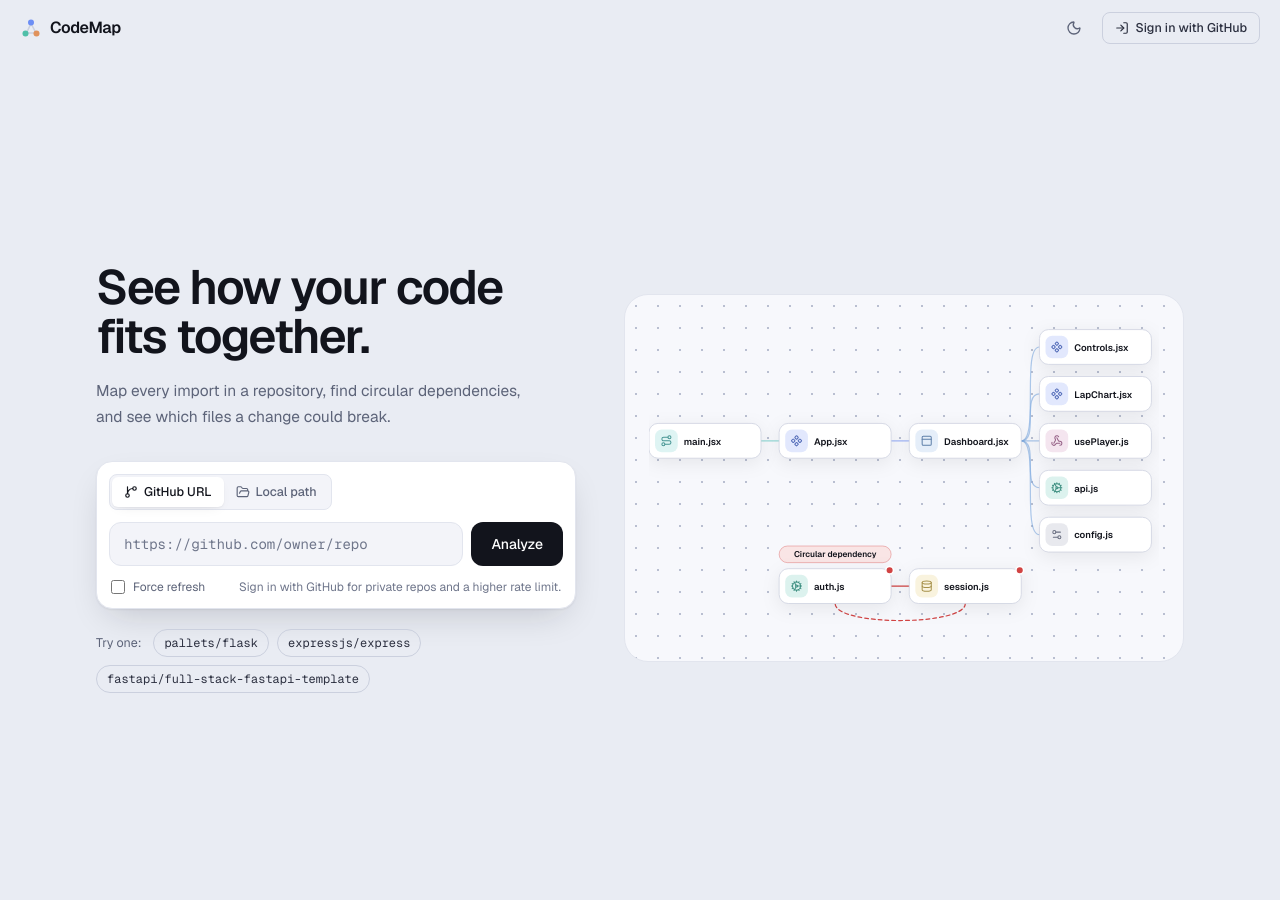
Test: HomePage › falls back to a backend-unreachable message when there is no response
The width and height of the screenshot is (1280, 900).
Step 1. Type "/repo" into the field named "Repository source" → [286, 544], box [109,522,463,566]
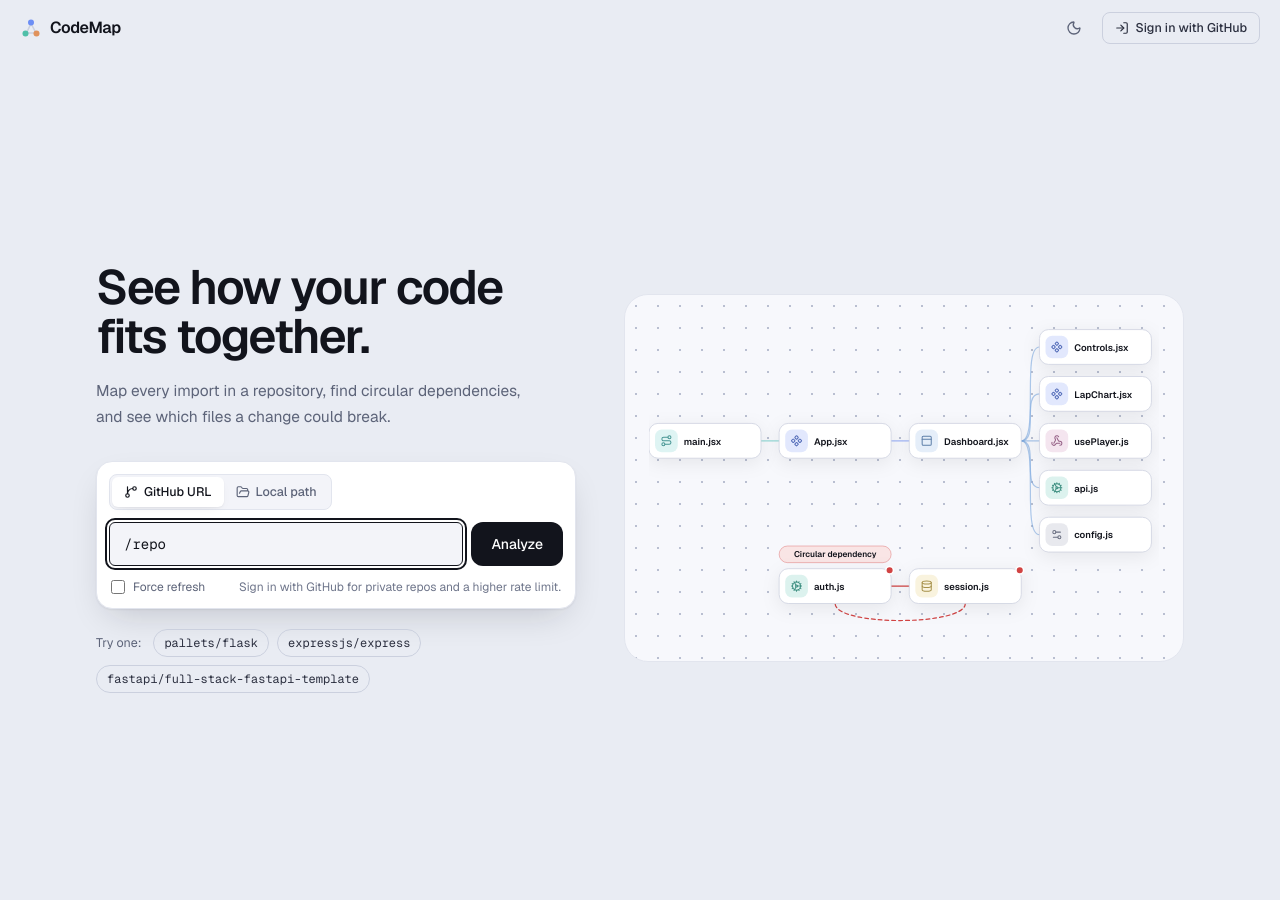
Step 2. Click the button "Analyze" → [517, 544], box [471,522,563,566]
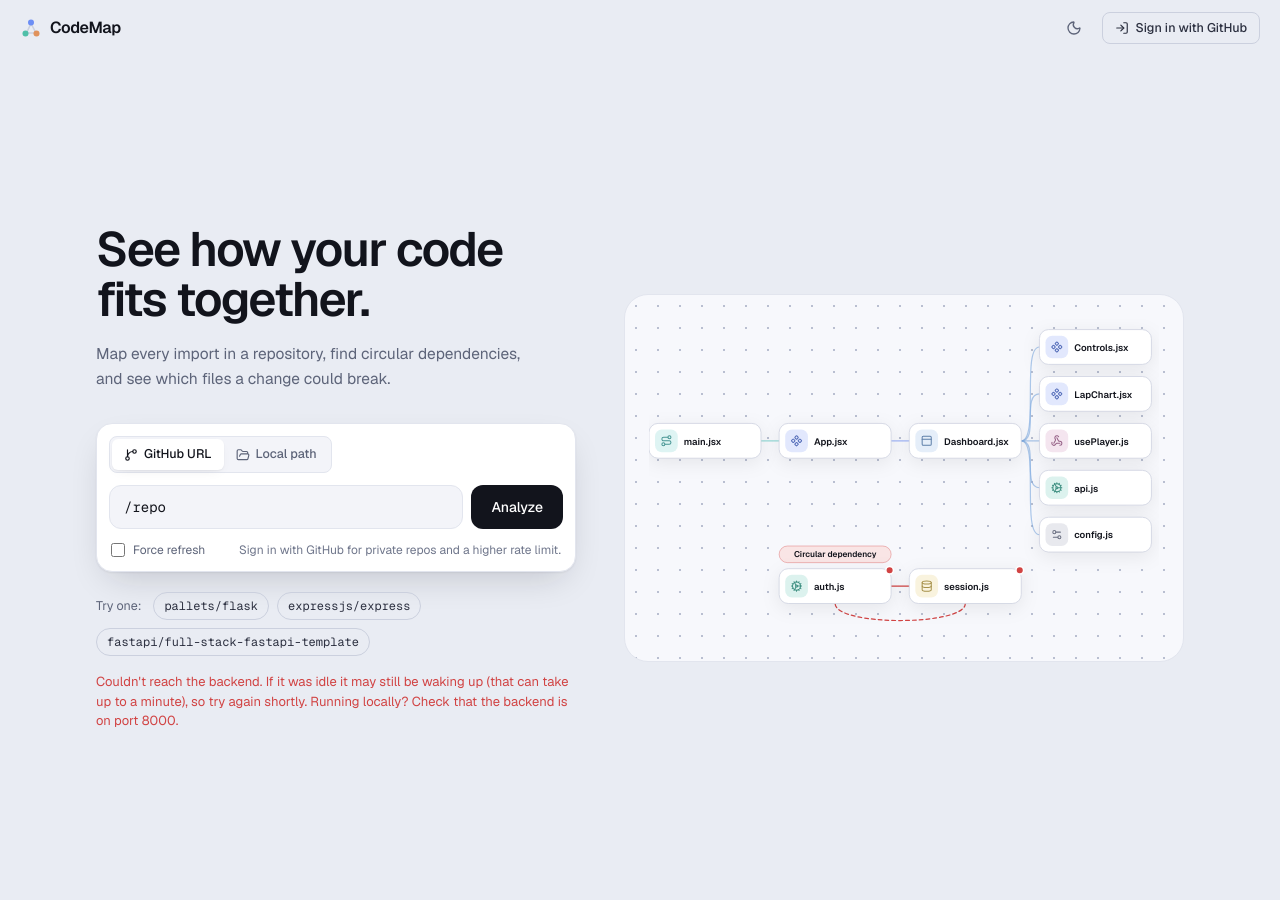
Expected: the message shows "Couldn't reach the backend", [96,673,568,729]
